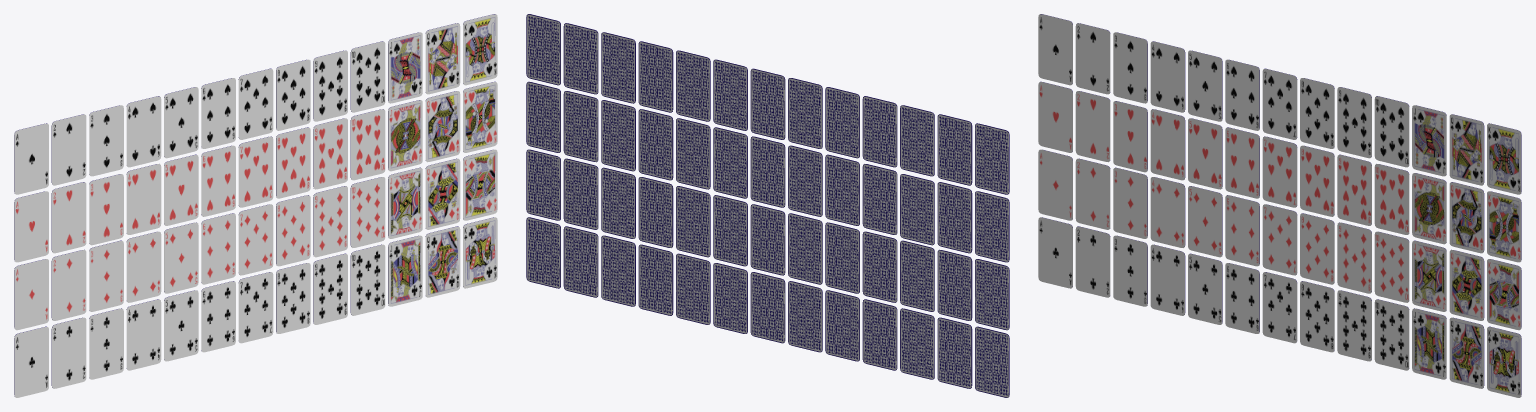
File: Cards.fbx
3 views of the same model, side by side, from view 1: azimuth 30°, elevation 25°; view 2: azimuth 150°, elevation 25°; view 3: azimuth 330°, elevation 25° (orthographic).
Visible parts, largest first — view 1: Two of Hearts, Seven of Spades, Queen of Diamonds, Seven of Clubs, Ten of Hearts, Seven of Hearts, Seven of Diamonds, Four of Diamonds, Four of Spades, Queen of Spades, Ten of Spades, Four of Clubs (+40 smaller); view 2: Two of Hearts, Seven of Spades, Queen of Diamonds, Seven of Clubs, Ten of Hearts, Seven of Hearts, Seven of Diamonds, Four of Diamonds, Four of Spades, Queen of Spades, Ten of Spades, Four of Clubs (+40 smaller); view 3: Queen of Hearts, Seven of Spades, Two of Diamonds, Seven of Clubs, Four of Hearts, Seven of Hearts, Ten of Diamonds, Seven of Diamonds, Four of Spades, Ten of Spades, Four of Clubs, Ten of Clubs (+40 smaller).
Boxes of the visible parts, x1,y1,x2,y2 form: Two of Hearts: [51, 182, 86, 253]; Seven of Spades: [238, 68, 273, 139]; Queen of Diamonds: [425, 158, 460, 229]; Seven of Clubs: [238, 272, 273, 343]; Ten of Hearts: [350, 109, 385, 180]; Seven of Hearts: [238, 136, 273, 207]; Seven of Diamonds: [238, 204, 273, 275]; Four of Diamonds: [126, 231, 161, 302]; Four of Spades: [126, 96, 161, 167]; Queen of Spades: [425, 23, 460, 94]; Ten of Spades: [350, 41, 385, 112]; Four of Clubs: [126, 299, 161, 370]; Two of Hearts: [937, 182, 972, 253]; Seven of Spades: [750, 68, 785, 139]; Queen of Diamonds: [563, 158, 598, 229]; Seven of Clubs: [750, 272, 785, 343]; Ten of Hearts: [638, 109, 673, 180]; Seven of Hearts: [750, 136, 785, 207]; Seven of Diamonds: [750, 204, 785, 275]; Four of Diamonds: [862, 231, 897, 302]; Four of Spades: [862, 96, 897, 167]; Queen of Spades: [563, 23, 598, 94]; Ten of Spades: [638, 41, 673, 112]; Four of Clubs: [862, 299, 897, 370]; Queen of Hearts: [1449, 182, 1484, 253]; Seven of Spades: [1262, 68, 1297, 139]; Two of Diamonds: [1075, 158, 1110, 229]; Seven of Clubs: [1262, 272, 1297, 343]; Four of Hearts: [1150, 109, 1185, 180]; Seven of Hearts: [1262, 136, 1297, 207]; Ten of Diamonds: [1374, 231, 1409, 302]; Seven of Diamonds: [1262, 204, 1297, 275]; Four of Spades: [1150, 41, 1185, 112]; Ten of Spades: [1374, 96, 1409, 167]; Four of Clubs: [1150, 244, 1185, 315]; Ten of Clubs: [1374, 299, 1409, 370].
Bounding box in the file's own units: 50.65 × 26.82 × 0.0317.
54 materials, 54 textured.
